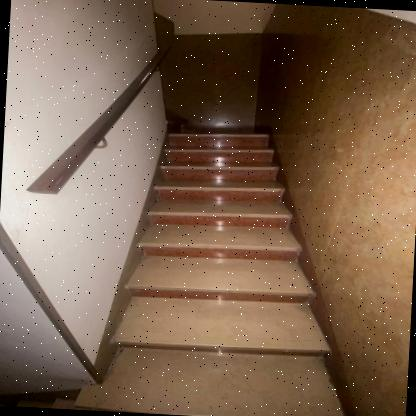stair: (107, 102, 337, 416)
